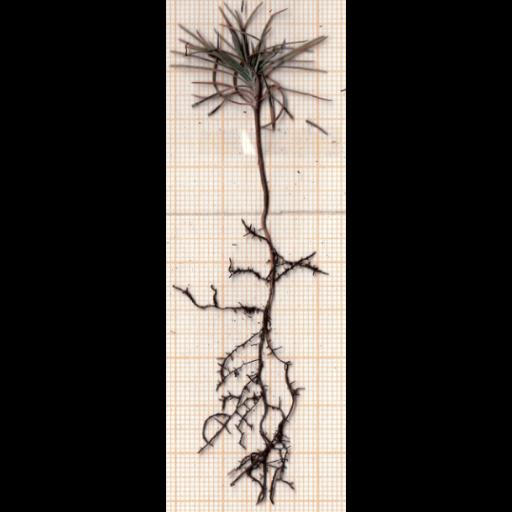flowerCedr: (181, 4, 326, 129)
rootCedr: (175, 221, 326, 503)
stemCedr: (253, 109, 269, 233)
